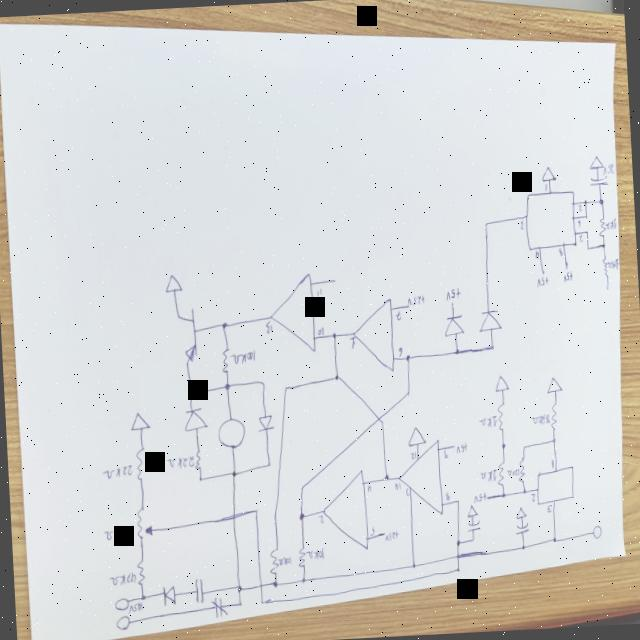capacitor: (514, 521, 531, 536), (589, 174, 608, 187), (466, 519, 482, 532)
crossover: (376, 415, 385, 425), (230, 512, 236, 520), (258, 582, 264, 589), (454, 554, 460, 560)
diode: (182, 406, 208, 432), (478, 308, 502, 333), (443, 312, 466, 338), (160, 583, 178, 608), (256, 413, 275, 433)
ground: (128, 411, 152, 432), (164, 273, 184, 294), (407, 426, 426, 448), (544, 375, 564, 395), (492, 374, 510, 393), (540, 164, 556, 184), (588, 154, 605, 170), (514, 506, 528, 520), (466, 505, 478, 518)
inductor: (216, 415, 248, 450)
junction: (329, 330, 338, 341), (223, 382, 232, 392), (332, 372, 341, 382), (187, 390, 196, 400), (382, 473, 391, 483), (403, 352, 412, 362), (298, 512, 306, 522), (404, 388, 412, 398), (220, 321, 228, 330), (140, 592, 147, 602), (298, 484, 306, 492), (230, 469, 237, 478), (454, 348, 461, 356), (300, 576, 306, 584), (489, 344, 495, 352), (552, 536, 558, 544), (236, 584, 242, 592), (238, 600, 244, 608), (253, 508, 259, 516), (260, 380, 266, 388), (272, 580, 278, 588), (282, 384, 288, 392), (266, 462, 272, 469), (598, 198, 604, 205), (259, 599, 265, 606), (197, 477, 203, 483), (522, 488, 528, 494), (411, 562, 416, 568), (521, 544, 526, 550), (483, 221, 488, 227), (456, 540, 461, 546), (456, 567, 461, 573), (601, 243, 606, 249), (501, 492, 506, 498), (469, 537, 474, 543), (552, 438, 556, 444), (522, 444, 526, 450), (502, 443, 506, 449), (586, 246, 590, 252), (456, 498, 460, 504), (585, 230, 589, 236), (584, 214, 588, 220), (583, 200, 587, 206)
resistor: (134, 506, 154, 542), (134, 445, 147, 484), (220, 346, 232, 376), (268, 546, 280, 574), (496, 402, 506, 434), (192, 444, 203, 472), (496, 402, 506, 432), (136, 558, 146, 586), (547, 406, 558, 430), (296, 547, 307, 569), (515, 458, 526, 480), (496, 462, 506, 486), (598, 217, 608, 235)
switch: (210, 594, 228, 619), (194, 577, 205, 604)
terminal: (112, 596, 130, 611), (114, 615, 130, 630), (592, 524, 602, 540), (485, 494, 491, 502), (332, 277, 338, 283), (541, 270, 546, 276), (450, 443, 455, 449), (381, 530, 385, 536), (405, 304, 409, 310), (564, 266, 568, 272), (605, 286, 609, 292), (450, 301, 454, 306)
text: (100, 464, 134, 481), (103, 524, 134, 542), (163, 454, 194, 471), (109, 572, 138, 586), (232, 350, 256, 366), (530, 413, 553, 426), (444, 286, 462, 302), (470, 489, 486, 506), (478, 416, 498, 429), (306, 548, 326, 561), (274, 554, 292, 568), (126, 600, 144, 614), (407, 294, 426, 307), (479, 470, 498, 482), (602, 218, 618, 232), (604, 258, 619, 272), (383, 530, 400, 542), (264, 320, 275, 336), (506, 467, 522, 478), (536, 276, 549, 288), (602, 162, 614, 175), (454, 442, 468, 453), (315, 325, 326, 338), (563, 270, 573, 282), (528, 491, 538, 503), (348, 335, 356, 350), (395, 345, 404, 357), (393, 480, 402, 492), (602, 258, 608, 276), (364, 484, 374, 494), (394, 311, 403, 322), (404, 486, 411, 500), (368, 525, 376, 537), (316, 514, 324, 526), (314, 288, 323, 298), (542, 182, 549, 194), (409, 450, 416, 462), (444, 491, 452, 501), (546, 504, 554, 514), (518, 220, 526, 230), (442, 450, 450, 459), (557, 247, 564, 257), (534, 250, 540, 260), (550, 457, 556, 467), (578, 204, 582, 213), (578, 234, 582, 243), (577, 220, 581, 228)
transistor: (173, 307, 200, 366)
